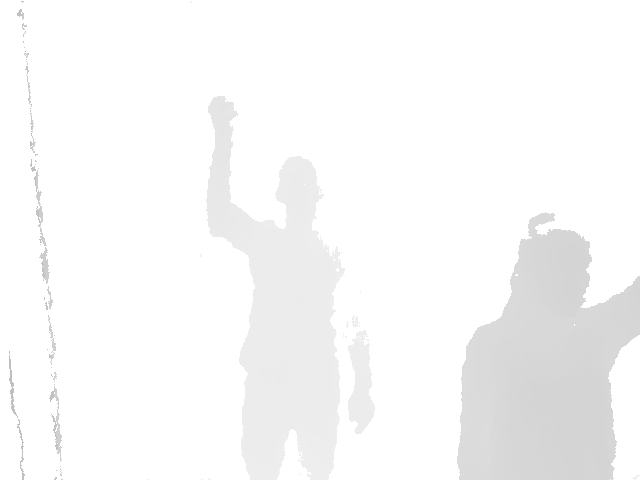hand: (206, 95, 237, 149)
head: (508, 212, 592, 318), (275, 155, 323, 224)
person: (204, 94, 377, 480), (456, 212, 640, 480)
